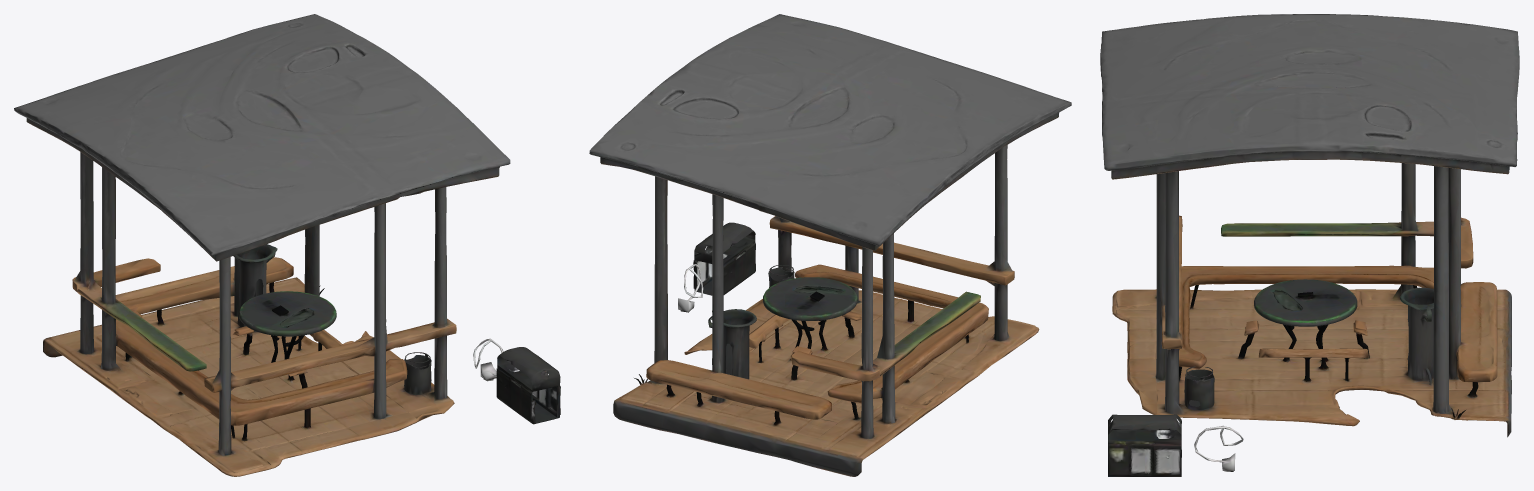
File: webtoon_riverside_park_pavilion.glb
The picture shows the model from 3 angles, left to right: view 1: azimuth 30°, elevation 25°; view 2: azimuth 150°, elevation 25°; view 3: azimuth 270°, elevation 25°; orthographic projection. The views are drawn at different scales.
Visible parts, largest first — view 1: webtoon_riverside_park_pavilion_mesh_00; view 2: webtoon_riverside_park_pavilion_mesh_00; view 3: webtoon_riverside_park_pavilion_mesh_00.
Boxes of the visible parts, left/top/right/bottom form: webtoon_riverside_park_pavilion_mesh_00: left=14, top=14, right=560, bottom=476; webtoon_riverside_park_pavilion_mesh_00: left=589, top=14, right=1071, bottom=476; webtoon_riverside_park_pavilion_mesh_00: left=1100, top=14, right=1519, bottom=476.
Bounding box in the file's own units: 4.5 × 3.55 × 4.4.
1 material, 1 textured.
